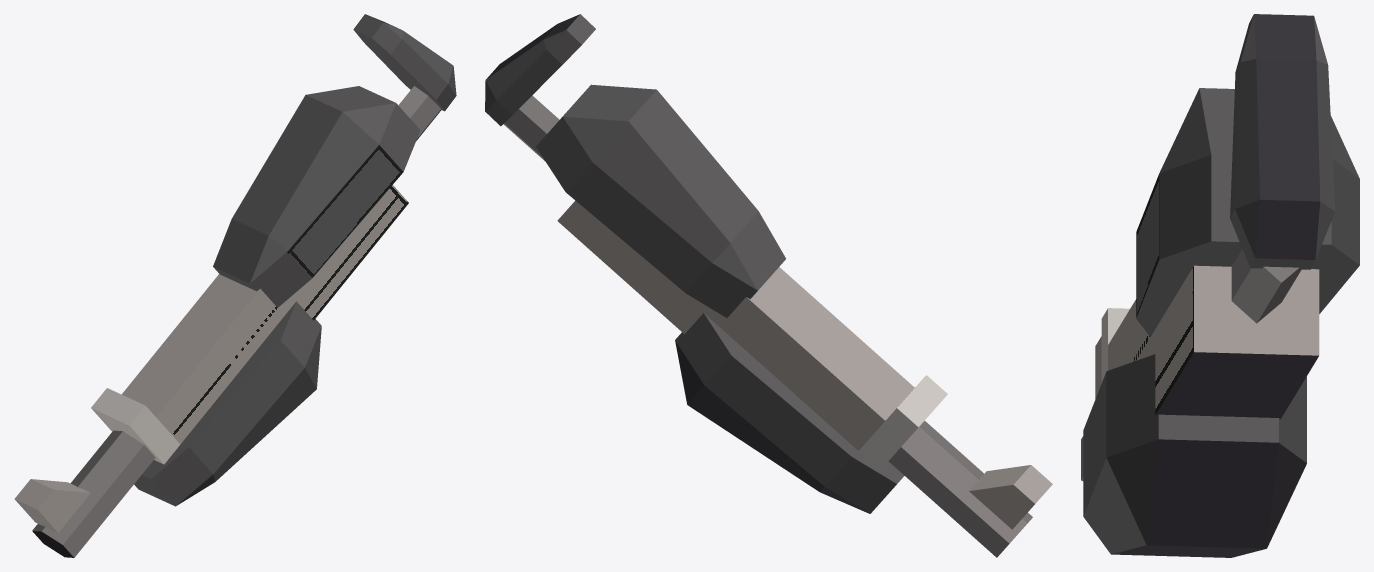
The model's file is StandardRifleLeftSide.gltf.
3 views of the same model, side by side, from view 1: azimuth 30°, elevation 25°; view 2: azimuth 150°, elevation 25°; view 3: azimuth 270°, elevation 25° (orthographic). The views are drawn at different scales.
Parts seen in each view (by area): view 1: Pad, Body, Grip, barrel, Stock, thing, sight, stock; view 2: Pad, Body, Grip, barrel, Stock, sight, thing, stock; view 3: Grip, Stock, Body, Pad, stock, thing, sight.
Part boxes in pixels (x1,y1,x2,y2): Pad: [213, 86, 420, 307]; Body: [122, 185, 408, 444]; Grip: [134, 301, 321, 506]; barrel: [32, 430, 155, 557]; Stock: [353, 14, 456, 111]; thing: [91, 388, 180, 464]; sight: [14, 479, 90, 532]; stock: [398, 86, 441, 140]; Pad: [536, 84, 785, 317]; Body: [557, 200, 914, 450]; Grip: [675, 313, 904, 513]; barrel: [888, 420, 1032, 557]; Stock: [485, 14, 595, 126]; sight: [969, 465, 1052, 529]; thing: [859, 375, 947, 469]; stock: [503, 95, 559, 161]; Grip: [1083, 354, 1306, 557]; Stock: [1230, 14, 1335, 269]; Body: [1108, 265, 1319, 418]; Pad: [1136, 88, 1359, 336]; stock: [1231, 249, 1301, 323]; thing: [1101, 308, 1129, 382]; sight: [1095, 336, 1101, 398].
Bounding box in the file's own units: 1.27 × 1.11 × 0.3446.
1 material, 1 textured.
